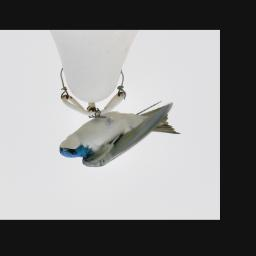Swallow: (59, 98, 182, 168)
